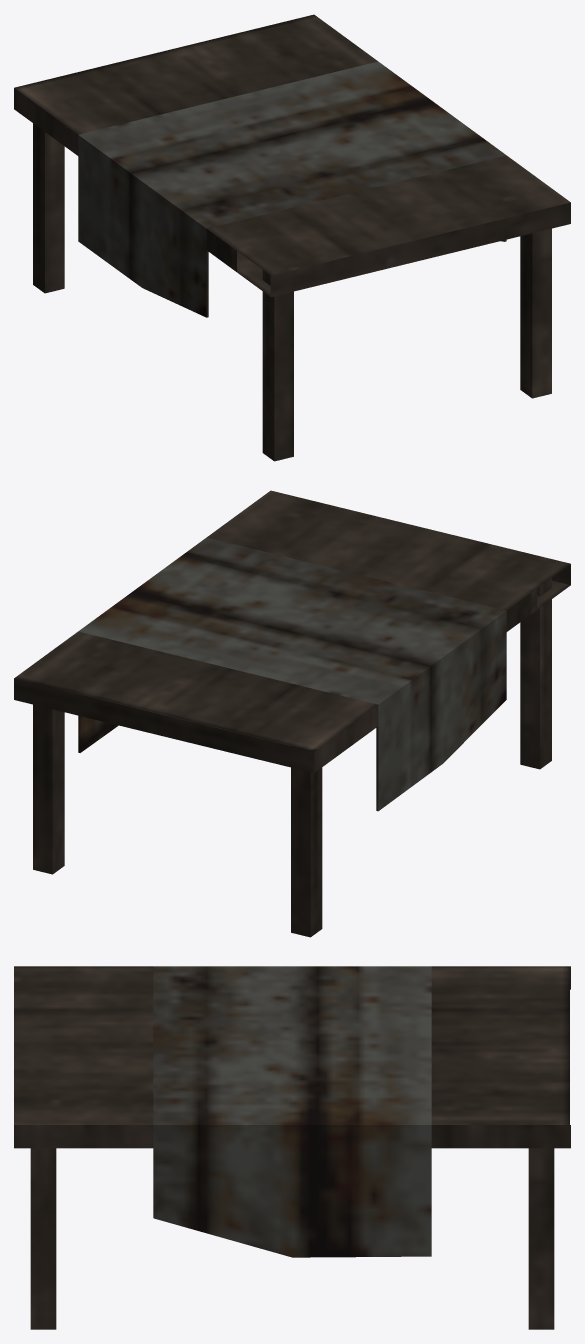
Rendered from SM_EC_Table_2.fbx.
3 views of the same model, one above another, from view 1: azimuth 30°, elevation 25°; view 2: azimuth 150°, elevation 25°; view 3: azimuth 270°, elevation 25° (orthographic). The views are drawn at different scales.
Parts seen in each view (by area): view 1: SM_EC_Table_2; view 2: SM_EC_Table_2; view 3: SM_EC_Table_2.
Boxes of the visible parts, x1,y1,x2,y2 form: SM_EC_Table_2: (14, 14, 570, 461); SM_EC_Table_2: (14, 490, 570, 937); SM_EC_Table_2: (14, 966, 570, 1329).
Bounding box in the file's own units: 1.46 × 2.17 × 0.9042.
